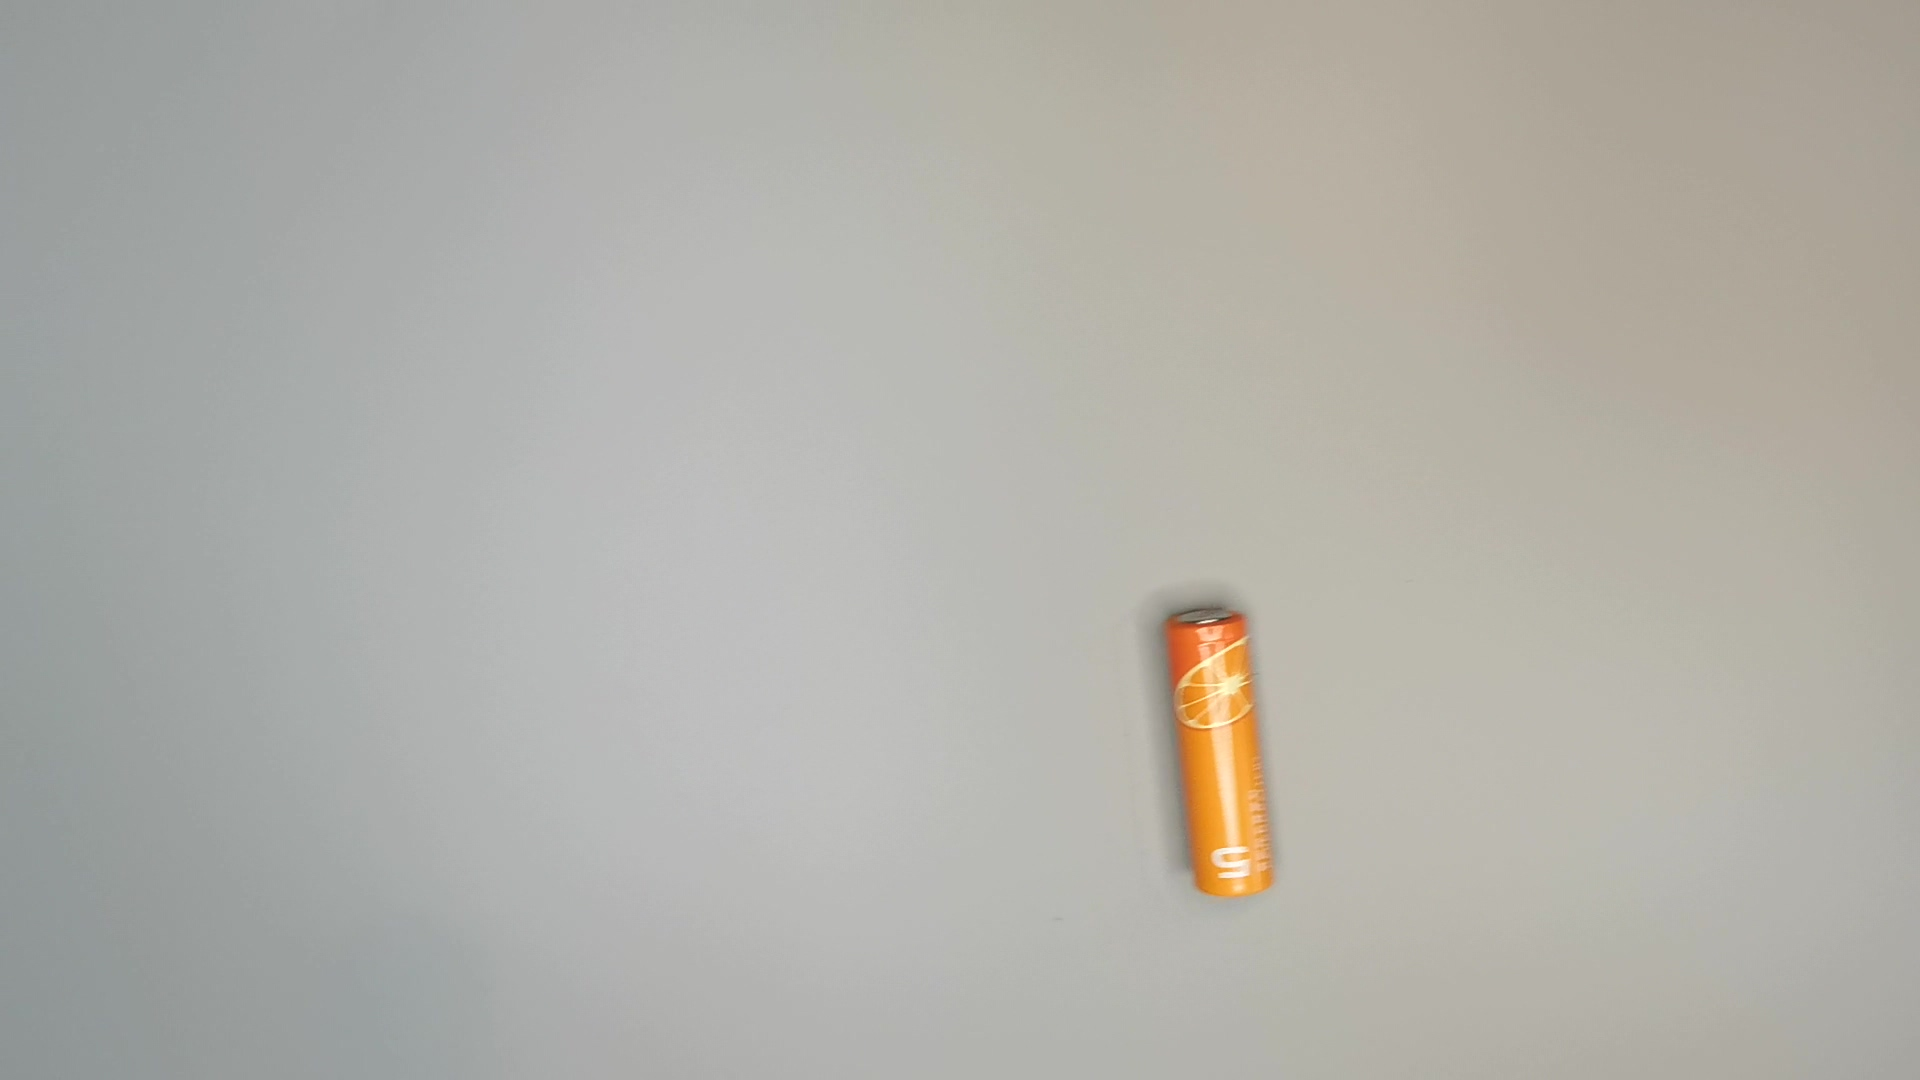battery: (1164, 603, 1282, 898)
